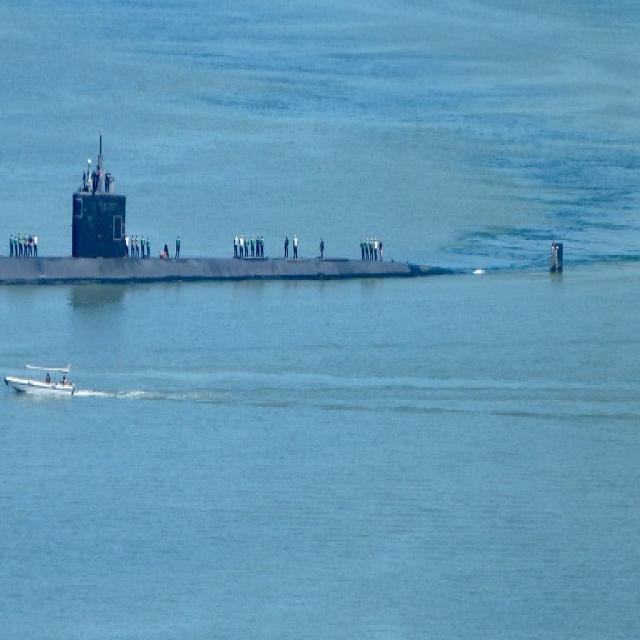submarine: (1, 191, 564, 286)
